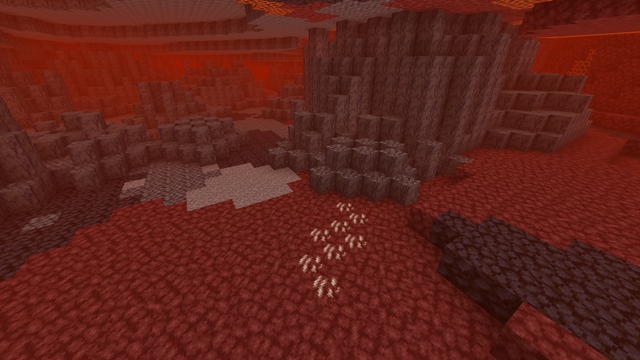quartz: (295, 198, 375, 307)
